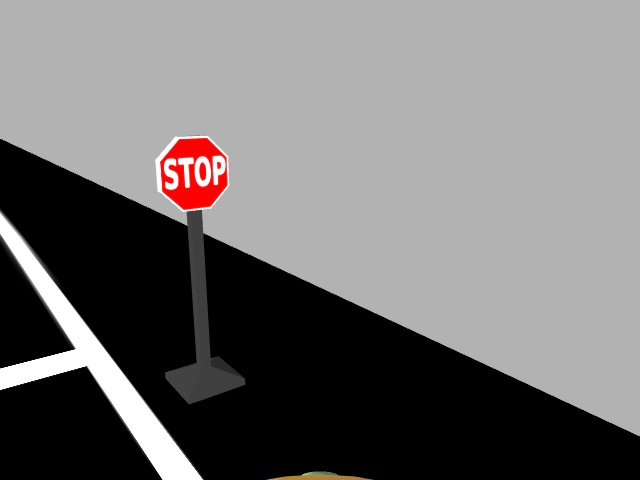Stop: (149, 134, 231, 213)
